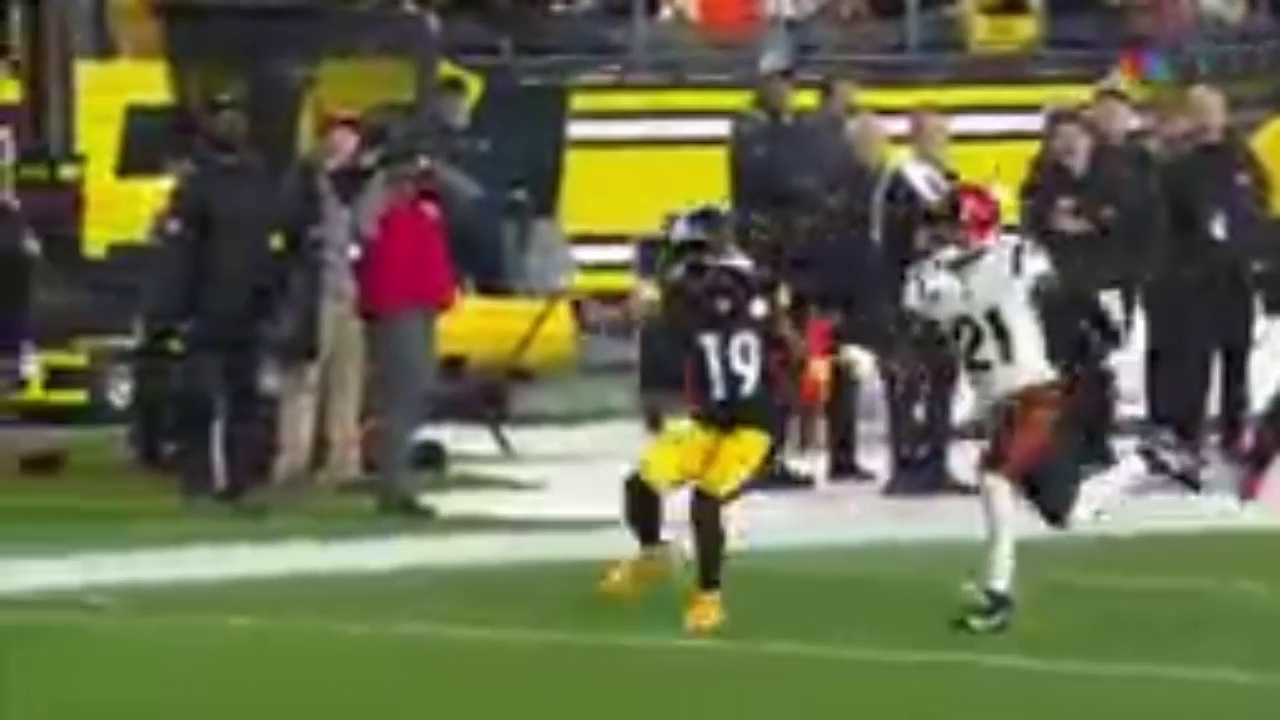defender: (938, 200, 1084, 431)
reciever: (678, 224, 767, 410)
